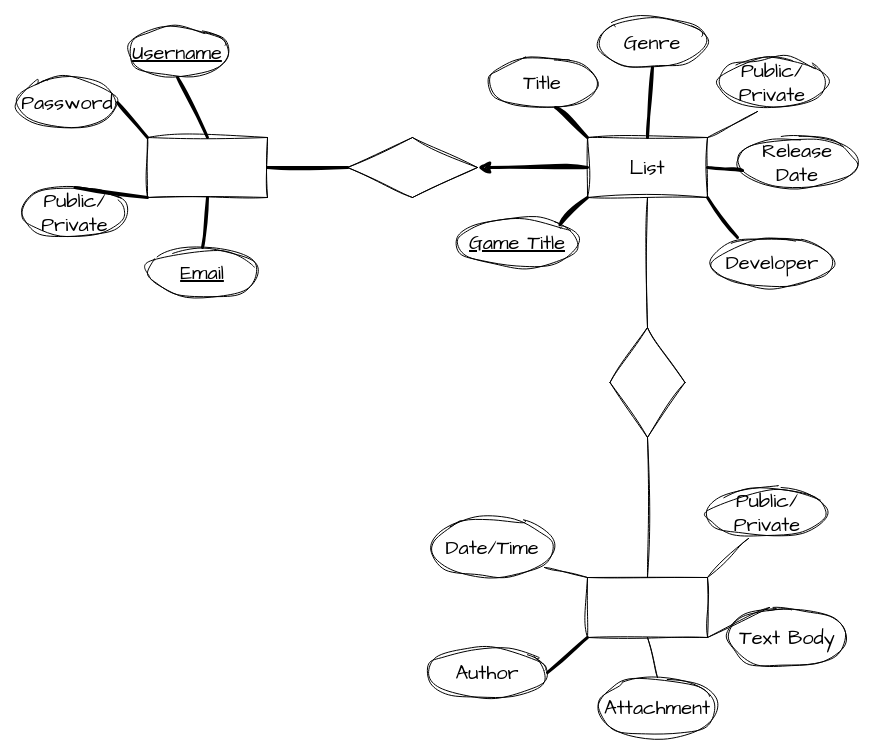
Some shapes in this 875 by 755 pixel diagram are drawn without their labels. The shapes that lost their labels are listed below. From the top down, each one's centre as x and y in pixels, then its label:
At point 207,167: "User".
At point 412,167: "has a".
At point 647,382: "has".
At point 647,607: "Comment".
